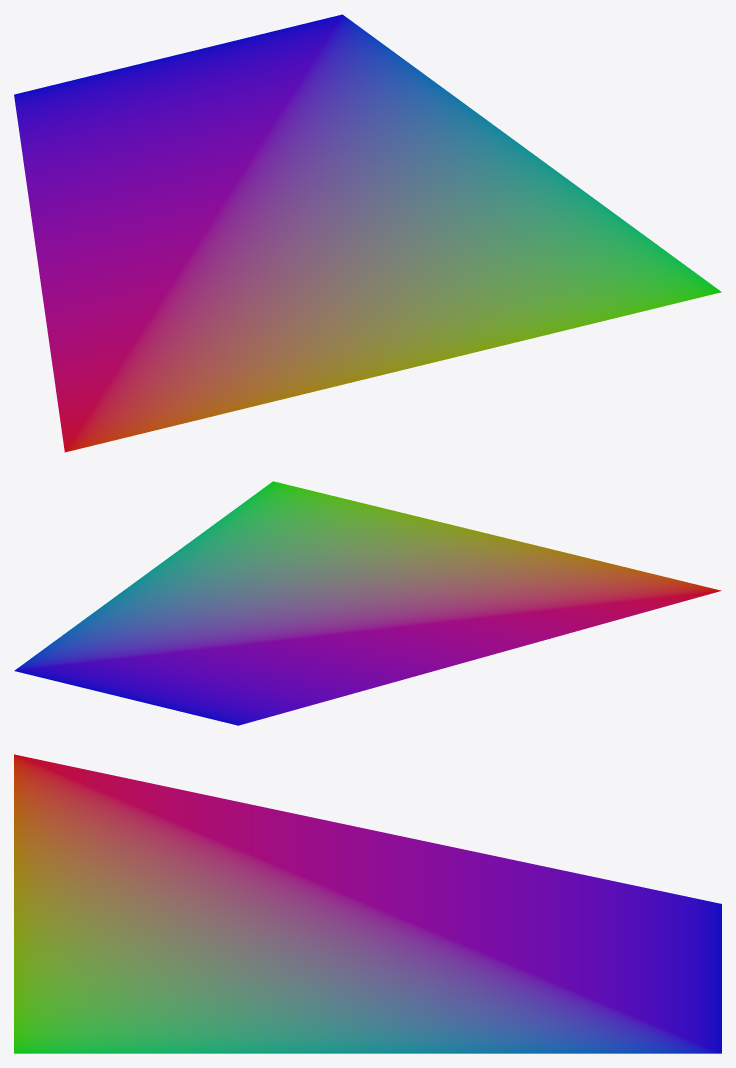
File: blender_bin_nct.dae
3 views of the same model, one above another, from view 1: azimuth 30°, elevation 25°; view 2: azimuth 150°, elevation 25°; view 3: azimuth 270°, elevation 25° (orthographic). The views are drawn at different scales.
Visible parts, largest first — view 1: PLYMaxCompatibilityDouble; view 2: PLYMaxCompatibilityDouble; view 3: PLYMaxCompatibilityDouble.
Boxes of the visible parts, x1=… form: PLYMaxCompatibilityDouble: x1=14, y1=14, x2=721, y2=452; PLYMaxCompatibilityDouble: x1=14, y1=481, x2=721, y2=725; PLYMaxCompatibilityDouble: x1=14, y1=754, x2=721, y2=1053.
Size of the model in its own units: 1 by 1 by 0.
